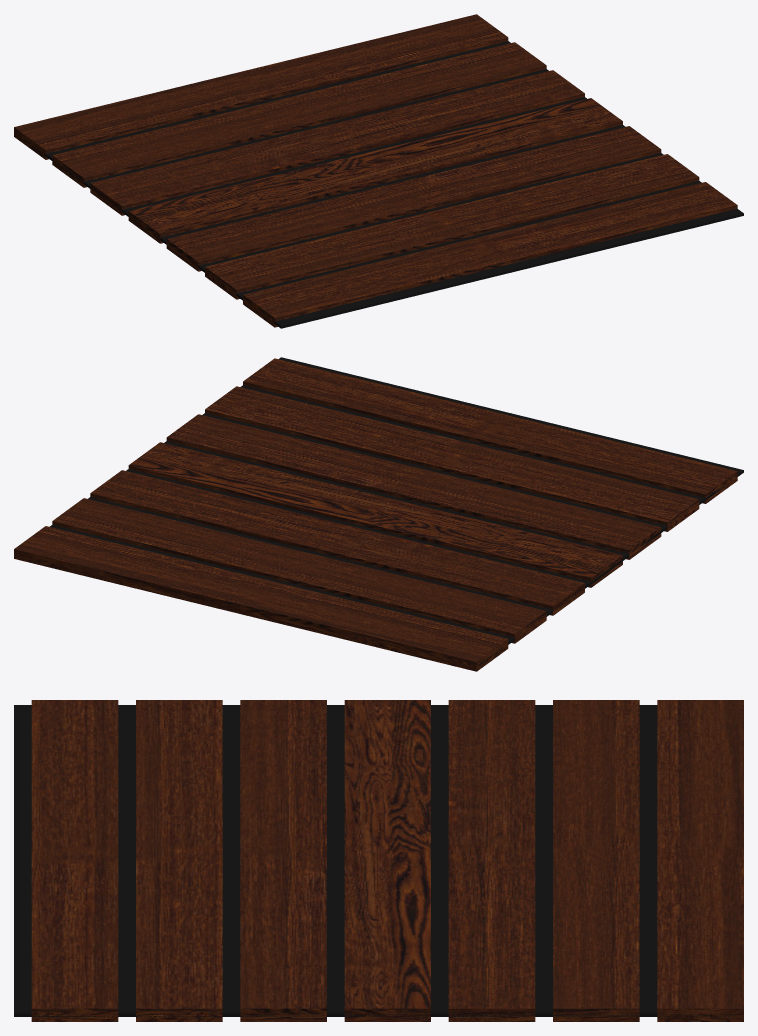
File: TechoExt.fbx
The picture shows the model from 3 angles, top to bottom: view 1: azimuth 30°, elevation 25°; view 2: azimuth 150°, elevation 25°; view 3: azimuth 270°, elevation 25°; orthographic projection. The views are drawn at different scales.
Parts seen in each view (by area): view 1: TechoExt; view 2: TechoExt; view 3: TechoExt.
Part boxes in pixels (x1=…): TechoExt: x1=14, y1=14, x2=743, y2=328; TechoExt: x1=14, y1=357, x2=743, y2=671; TechoExt: x1=14, y1=700, x2=743, y2=1021.
Bounding box in the file's own units: 200 × 4 × 200.
